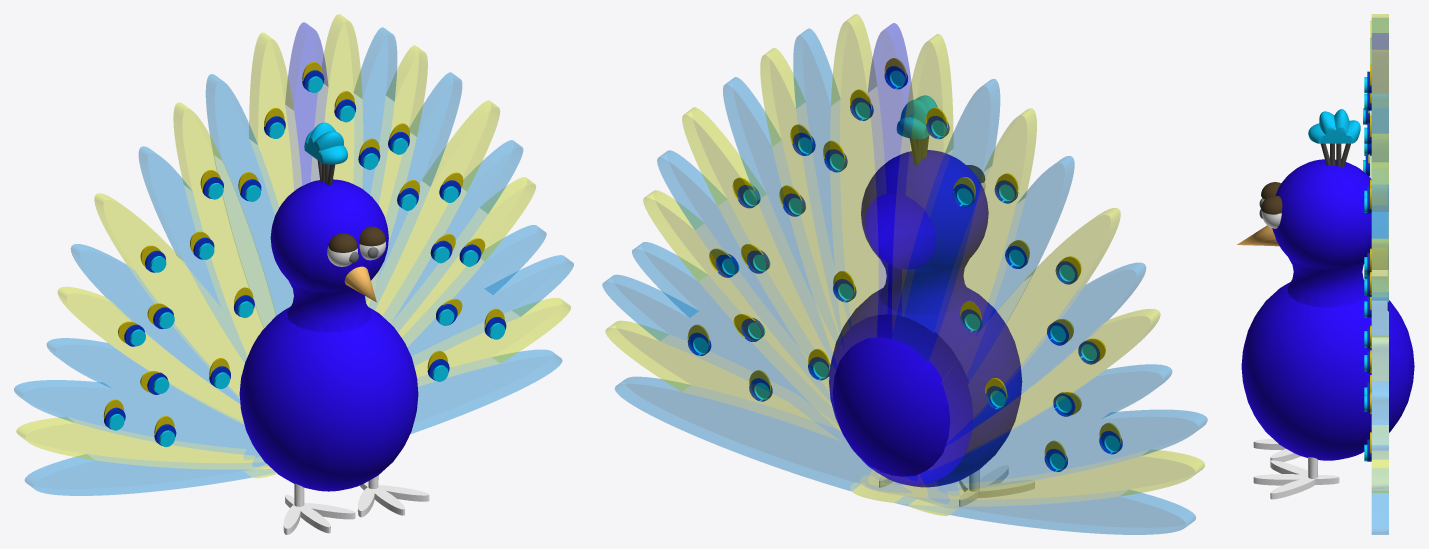
Rendered from peacock.glb.
3 views of the same model, side by side, from view 1: azimuth 30°, elevation 25°; view 2: azimuth 150°, elevation 25°; view 3: azimuth 270°, elevation 25° (orthographic). The views are drawn at different scales.
Bounding box in the file's own units: 3.86 × 3.01 × 1.12.
